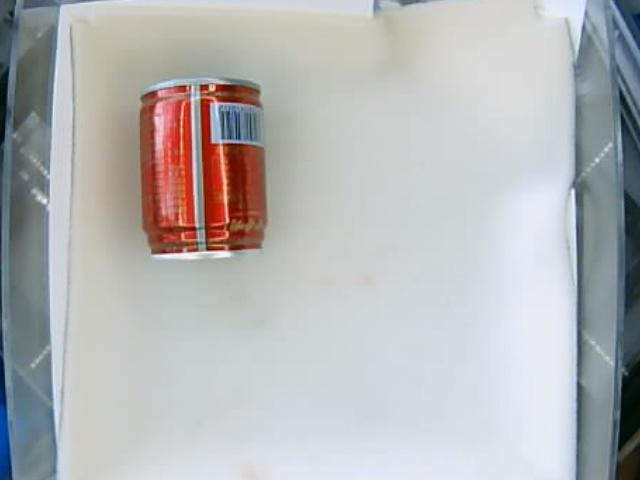Bottle: (138, 78, 265, 259)
